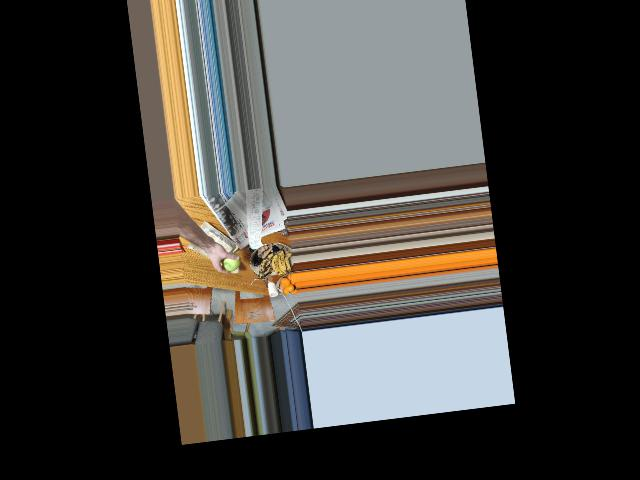apple: (216, 246, 239, 271)
